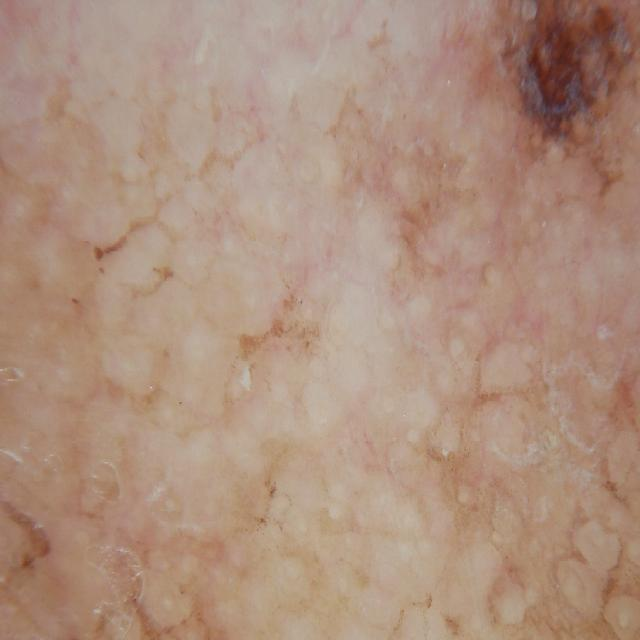Melanoma: (8, 443, 337, 640), (410, 360, 640, 640), (486, 0, 640, 191)
